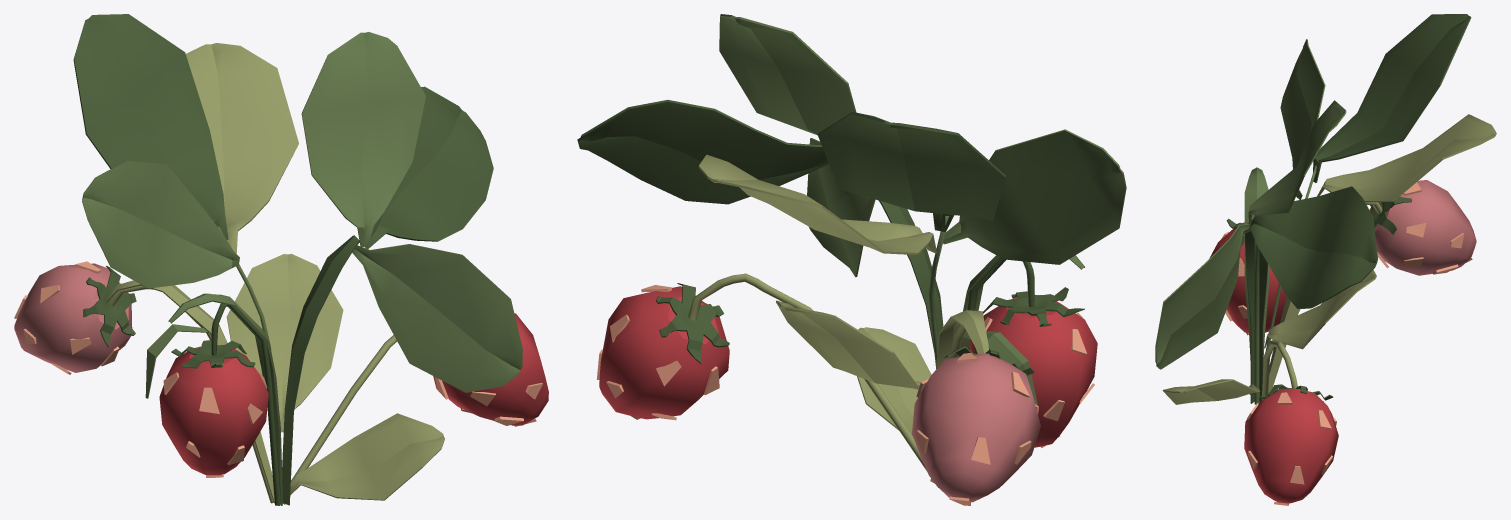
The model's file is SM_Strawberry_Plant.fbx.
The picture shows the model from 3 angles, left to right: view 1: azimuth 30°, elevation 25°; view 2: azimuth 150°, elevation 25°; view 3: azimuth 270°, elevation 25°; orthographic projection. The views are drawn at different scales.
Parts seen in each view (by area): view 1: SM_Strawberry_Plant; view 2: SM_Strawberry_Plant; view 3: SM_Strawberry_Plant.
Part boxes in pixels (x1,y1,x2,y2): SM_Strawberry_Plant: (14, 14, 548, 505); SM_Strawberry_Plant: (577, 14, 1126, 505); SM_Strawberry_Plant: (1155, 14, 1496, 505).
Size of the model in its own units: 177 by 156 by 134.
